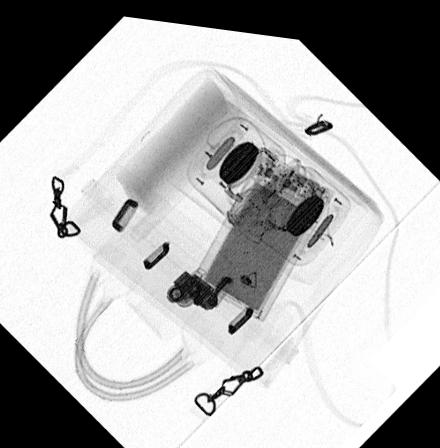Powerbank: (189, 143, 335, 313)
